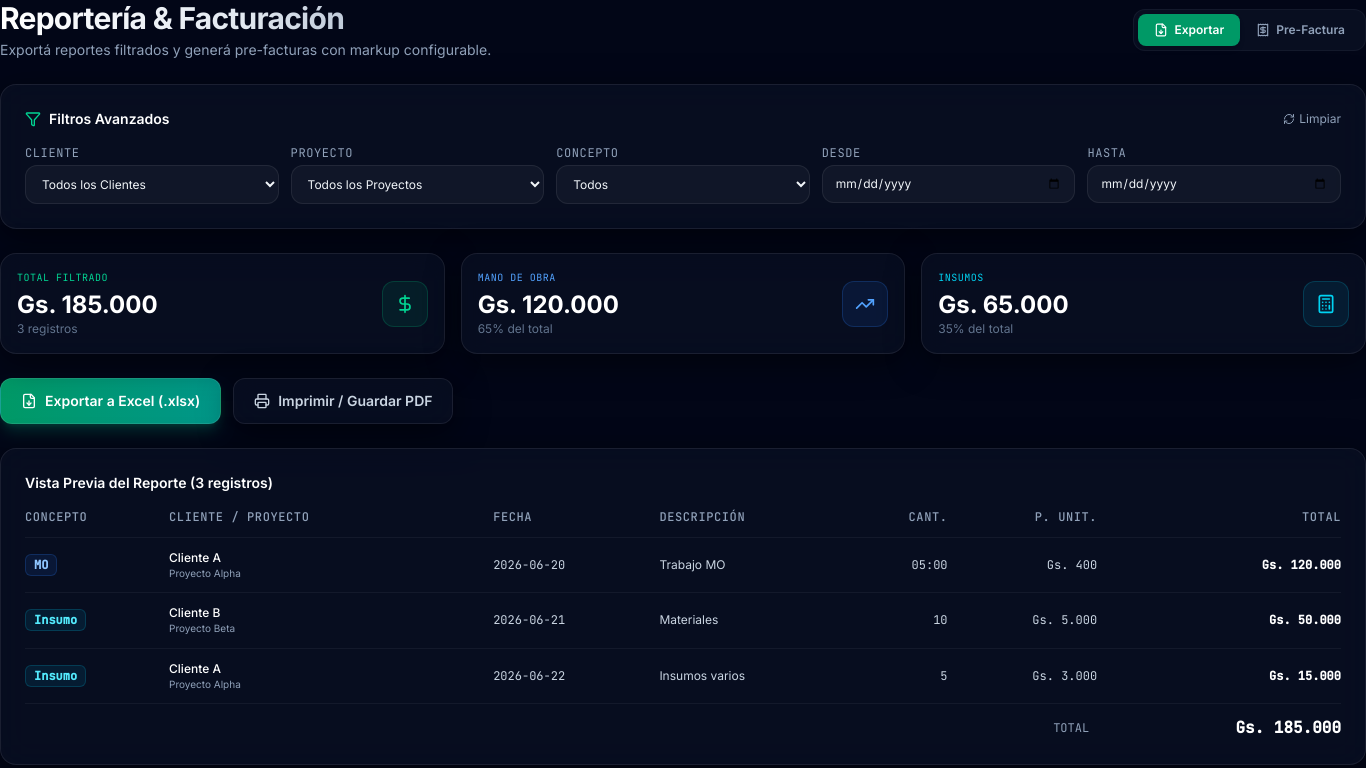
Scenario: Reportes › Filters › should filter registros by proyecto
# Get proyecto select (second combobox)
Step 1. Select "Proyecto Beta" in the 2nd dropdown → (417, 184), box [291,165,544,204]
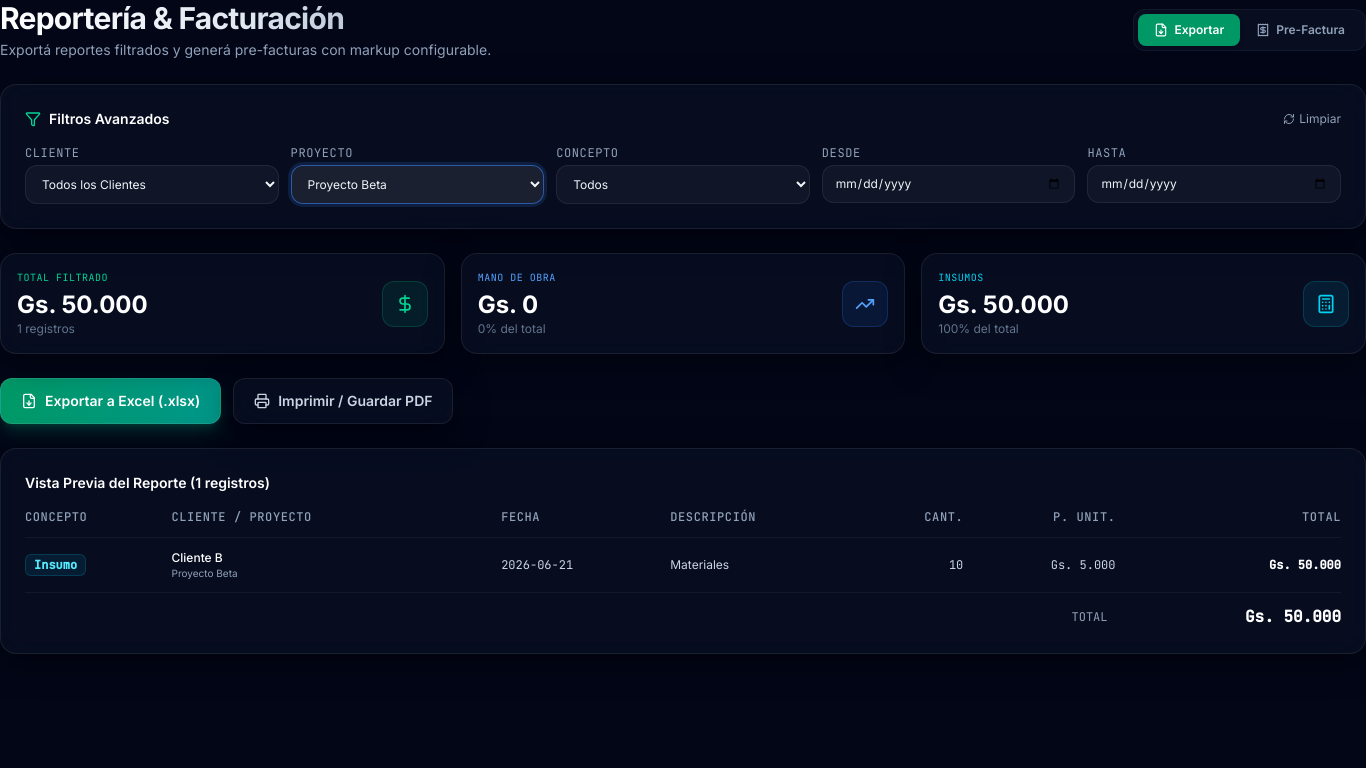
Expected: the text "Gs. 50.000" below "Total Filtrado" is shown, [17,290,148,319]
